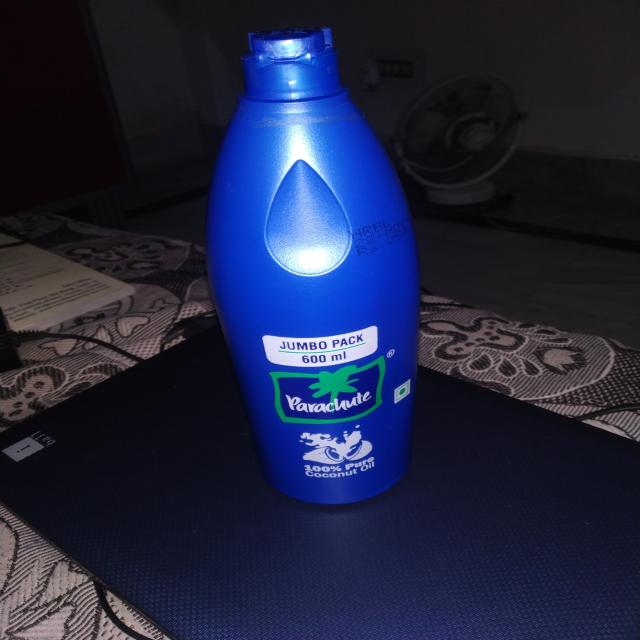parachute_oil: (198, 27, 430, 510)
